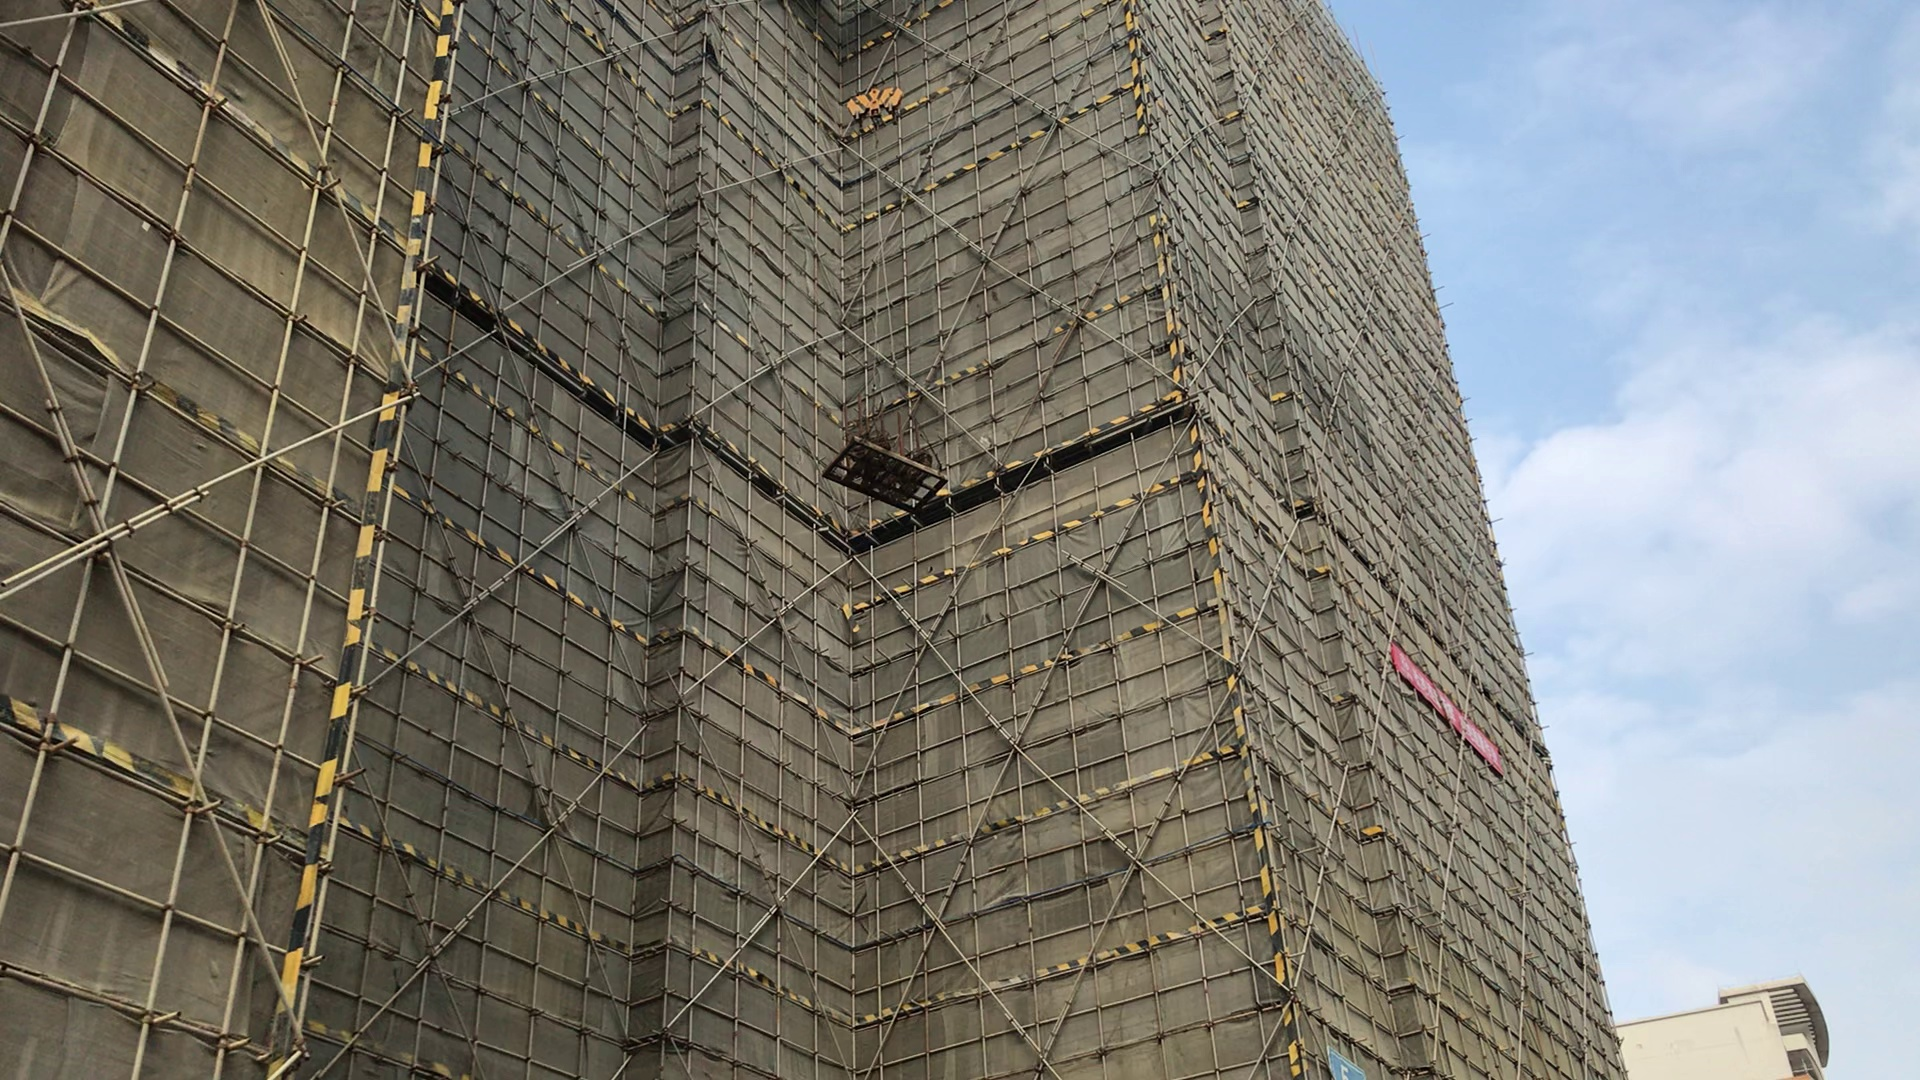hook: (832, 76, 911, 132)
